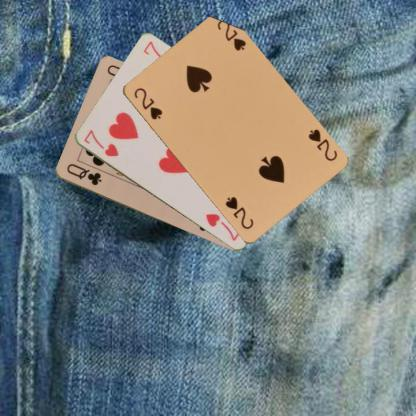2s: (305, 126, 339, 163), (131, 85, 164, 121)
7h: (81, 126, 119, 158)
Qc: (64, 161, 102, 187)
